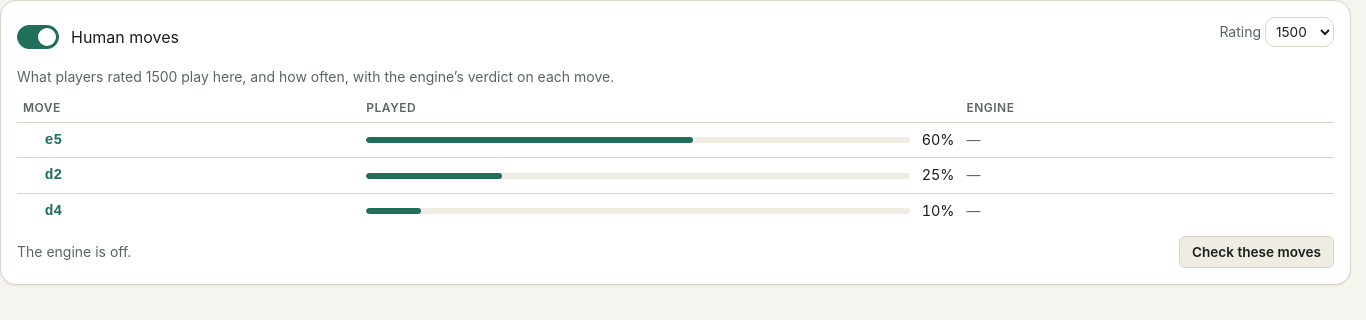
Test: HumanMovesCard › checks on request while the engine is off
Click the button "Check these moves" at [1256, 252], box x1=1179 y1=236 x2=1334 y2=268
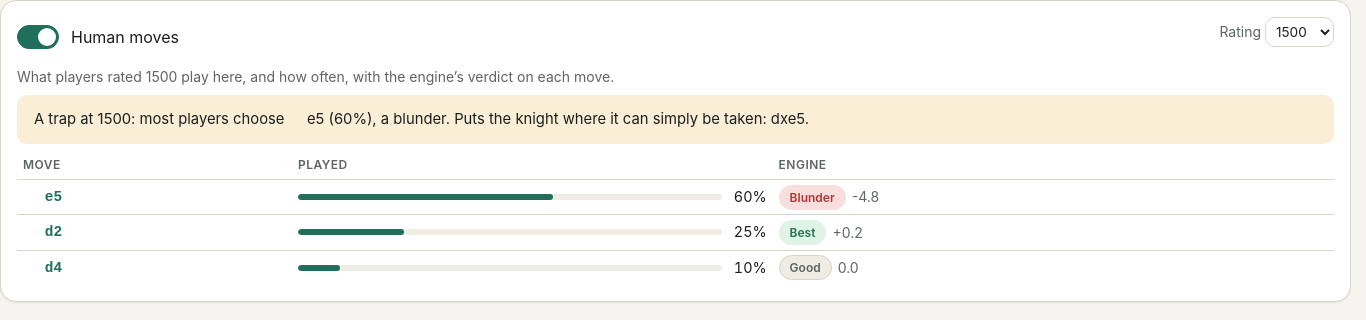
Check: the text "Blunder" is shown, box x1=779 y1=185 x2=846 y2=210
